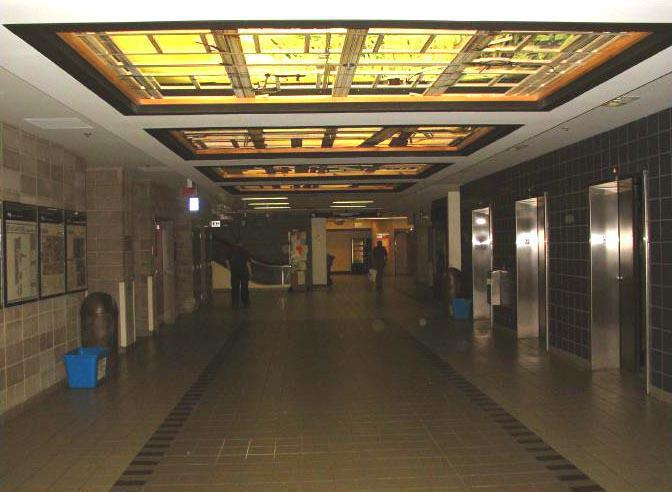Bote de Basura: (78, 289, 124, 367), (65, 349, 111, 393), (440, 267, 463, 318), (452, 296, 471, 322)
